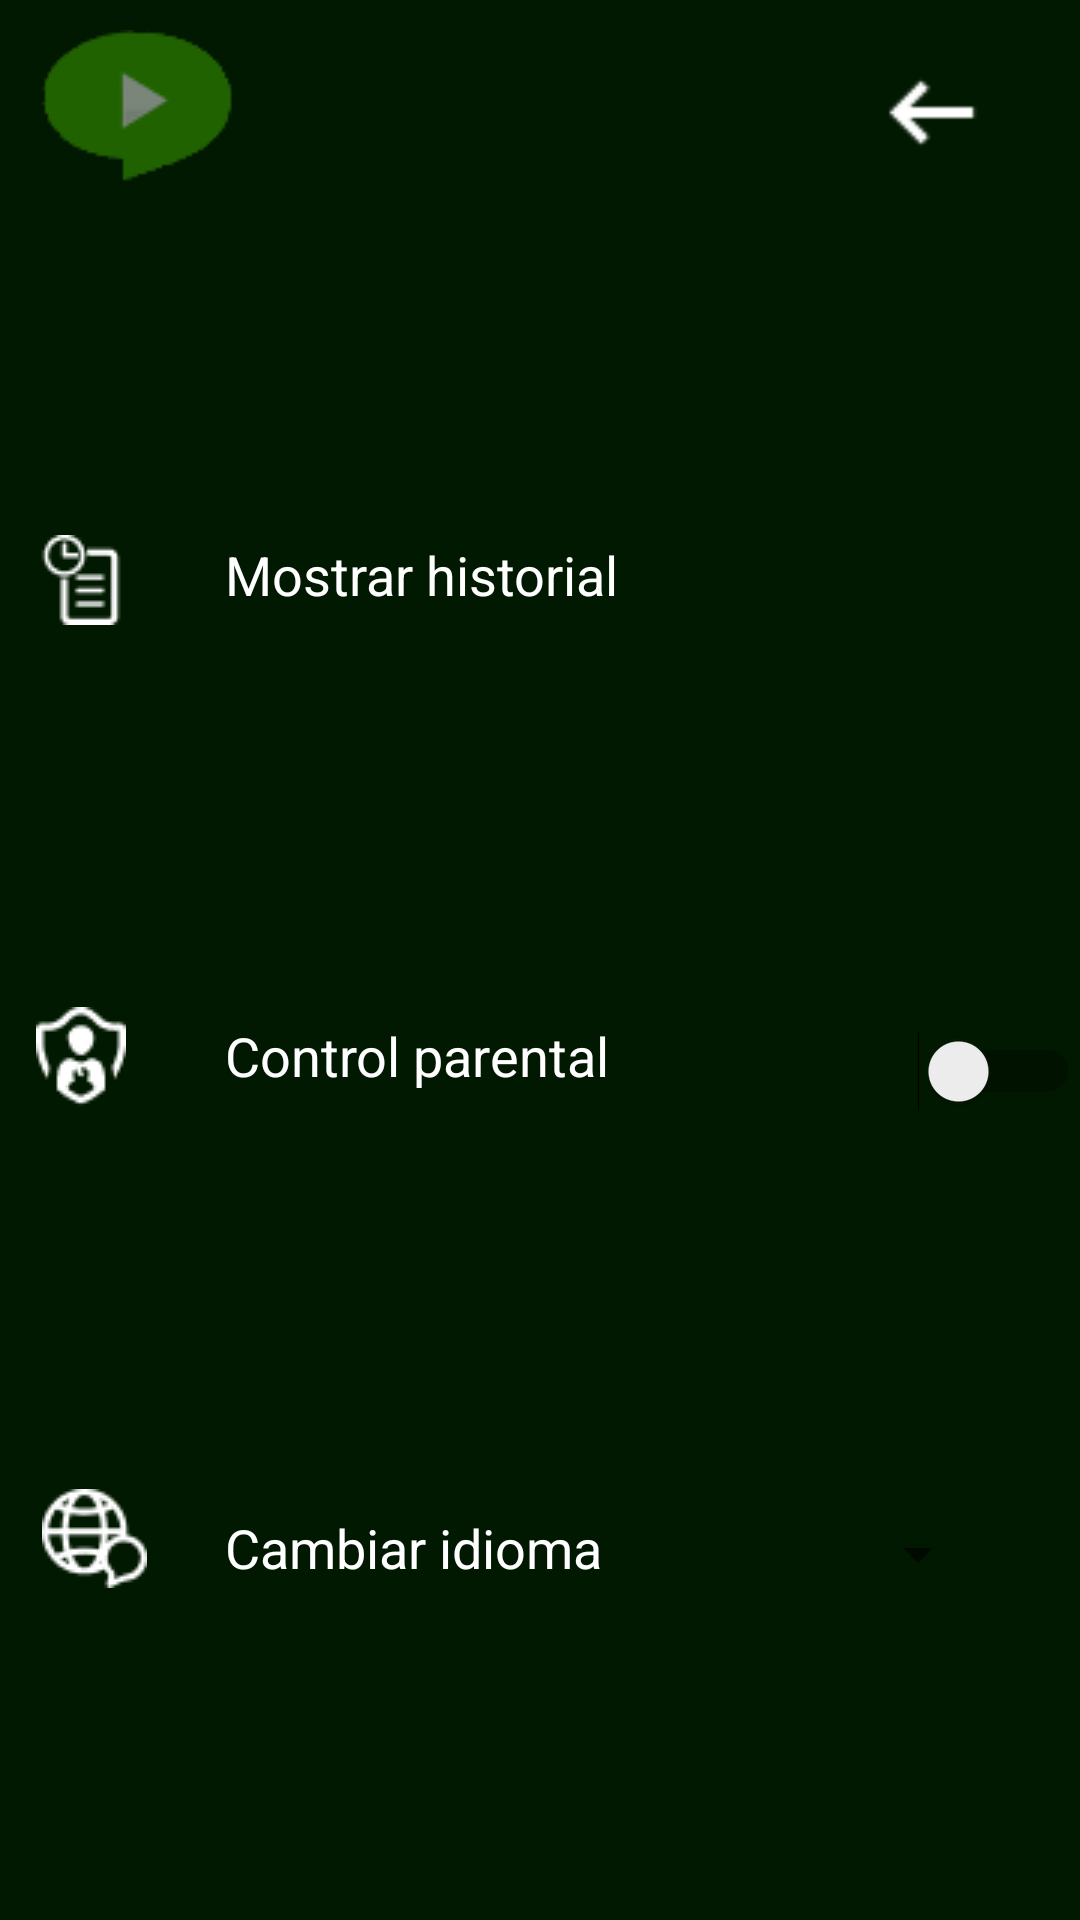

Icons on this 1080×1920 Android screen, each with the point to tap as [x,y]:
idioma: [94,1538]
